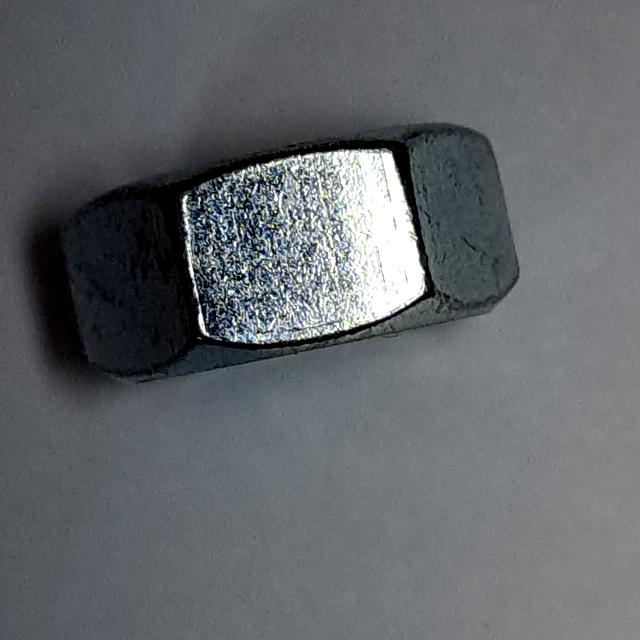Side_Excellent: (47, 115, 528, 397)
